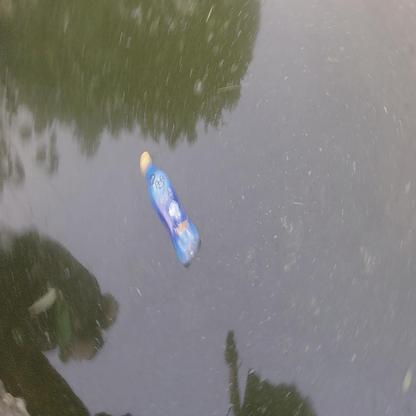plastic bottle: (139, 151, 202, 266)
